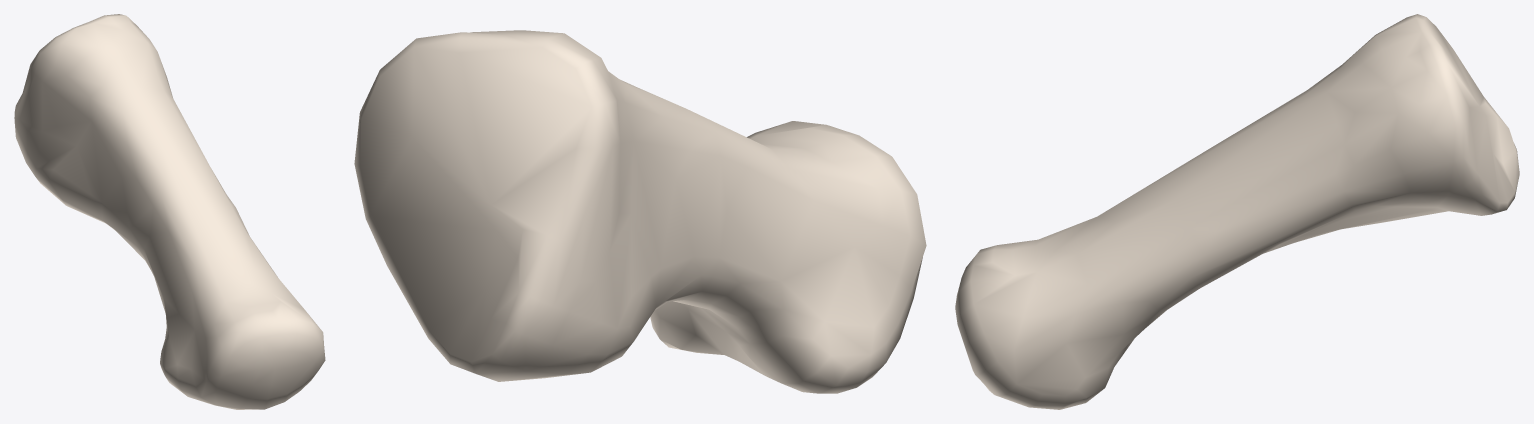
File: right_metatarsal_1.glb
The picture shows the model from 3 angles, left to right: view 1: azimuth 30°, elevation 25°; view 2: azimuth 150°, elevation 25°; view 3: azimuth 270°, elevation 25°; orthographic projection. The views are drawn at different scales.
Visible parts, largest first — view 1: First metatarsal bone.r; view 2: First metatarsal bone.r; view 3: First metatarsal bone.r.
Part boxes in pixels (bbox=[...]): First metatarsal bone.r: bbox=[14, 14, 325, 409]; First metatarsal bone.r: bbox=[354, 30, 926, 393]; First metatarsal bone.r: bbox=[955, 14, 1519, 409].
Size of the model in its own units: 0.0213 by 0.0443 by 0.0632.
